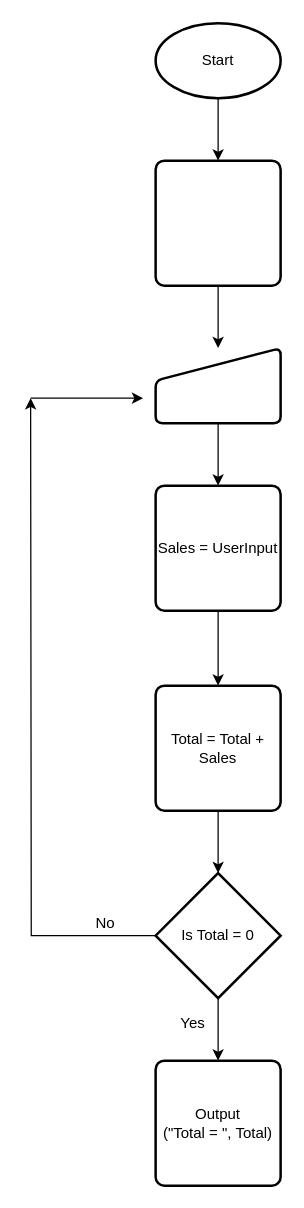
Image size: 304x1208. Some labels were removed from this diagram. Each missing label, with the centre of its shape:
"Enter Sales Value" goes at (x=217, y=385).
"Total = 0" goes at (x=217, y=222).
